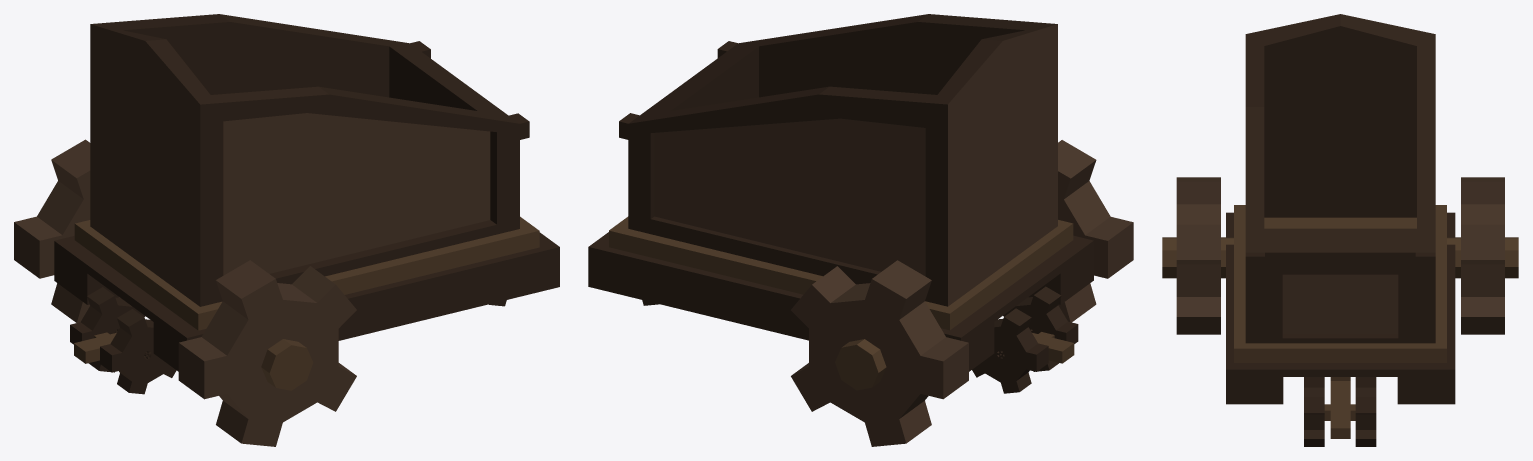
Rendered from chariot usine.fbx.
The picture shows the model from 3 angles, left to right: view 1: azimuth 30°, elevation 25°; view 2: azimuth 150°, elevation 25°; view 3: azimuth 270°, elevation 25°; orthographic projection. The views are drawn at different scales.
Parts seen in each view (by area): view 1: conteneur, roue droit, planche chariot roue, planche support chariot 1, roue gauche, petite roue 1.004, petite roue 1.001, barre qui tient les gros rouages, planche support chariot.002; view 2: conteneur, roue gauche, planche chariot roue, planche support chariot 1, roue droit, petite roue 1.001, petite roue 1.004, barre qui tient les gros rouages, planche support chariot.002; view 3: conteneur, planche support chariot 1, planche chariot roue, roue droit, roue gauche, barre qui tient les gros rouages, petite roue 1.003, planche support chariot.002, petite roue 1.
Part boxes in pixels (<box>): conteneur: <box>90,14,529,306</box>; roue droit: <box>178,260,356,446</box>; planche chariot roue: <box>54,232,559,371</box>; planche support chariot 1: <box>74,216,539,330</box>; roue gauche: <box>14,139,120,322</box>; petite roue 1.004: <box>100,309,176,394</box>; petite roue 1.001: <box>70,287,145,372</box>; barre qui tient les gros rouages: <box>261,339,313,390</box>; planche support chariot.002: <box>74,332,116,363</box>; conteneur: <box>619,14,1057,306</box>; roue gauche: <box>791,260,968,446</box>; planche chariot roue: <box>588,232,1093,371</box>; planche support chariot 1: <box>609,216,1073,330</box>; roue droit: <box>1058,140,1133,322</box>; petite roue 1.001: <box>972,308,1048,393</box>; petite roue 1.004: <box>1003,286,1078,371</box>; barre qui tient les gros rouages: <box>835,339,886,390</box>; planche support chariot.002: <box>1032,332,1074,363</box>; conteneur: <box>1245,14,1435,343</box>; planche support chariot 1: <box>1234,205,1446,362</box>; planche chariot roue: <box>1226,212,1455,404</box>; roue droit: <box>1176,177,1220,334</box>; roue gauche: <box>1461,177,1504,334</box>; barre qui tient les gros rouages: <box>1162,237,1518,278</box>; petite roue 1.003: <box>1355,377,1376,446</box>; planche support chariot.002: <box>1324,377,1355,438</box>; petite roue 1: <box>1304,377,1324,446</box>.
Bounding box in the file's own units: 576 × 418 × 453.
